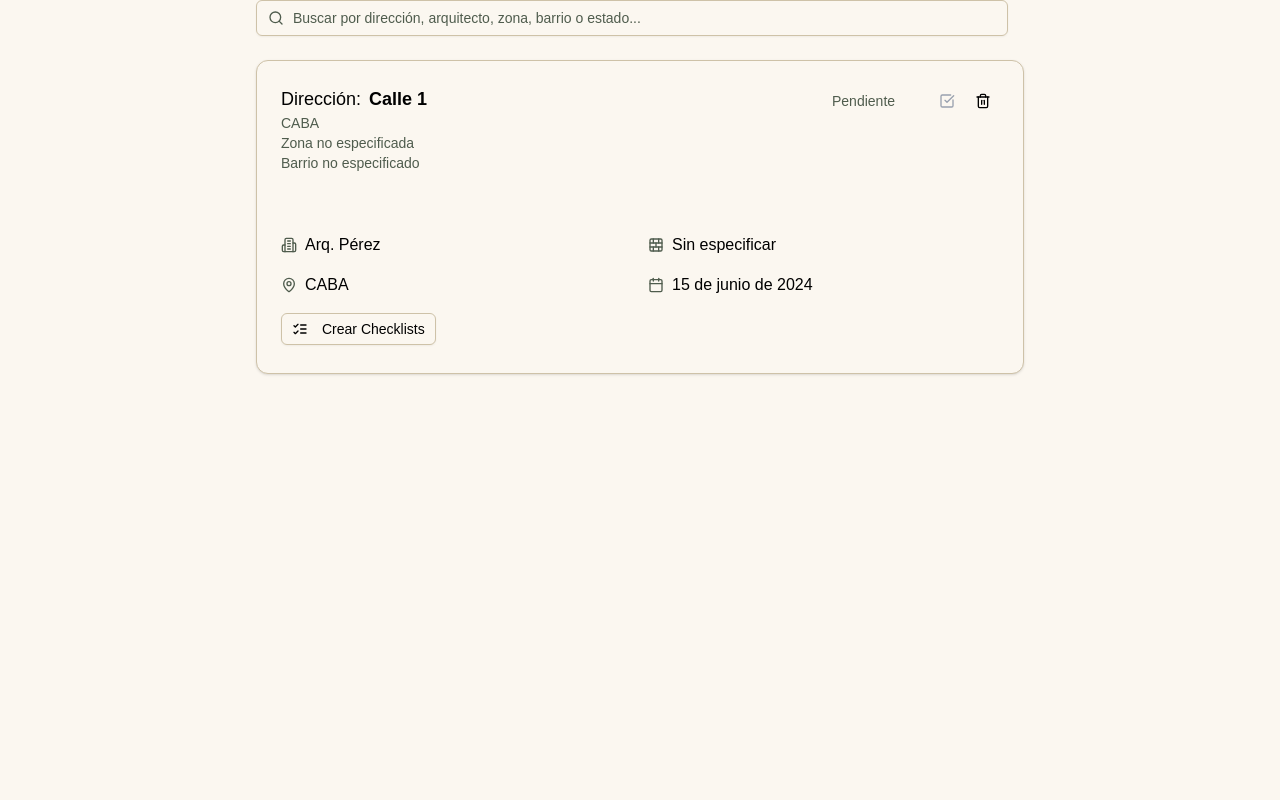
WorksList › opens delete dialog when trash icon is clicked
Click the 1st button at point(983, 101), box [967,85,999,117]
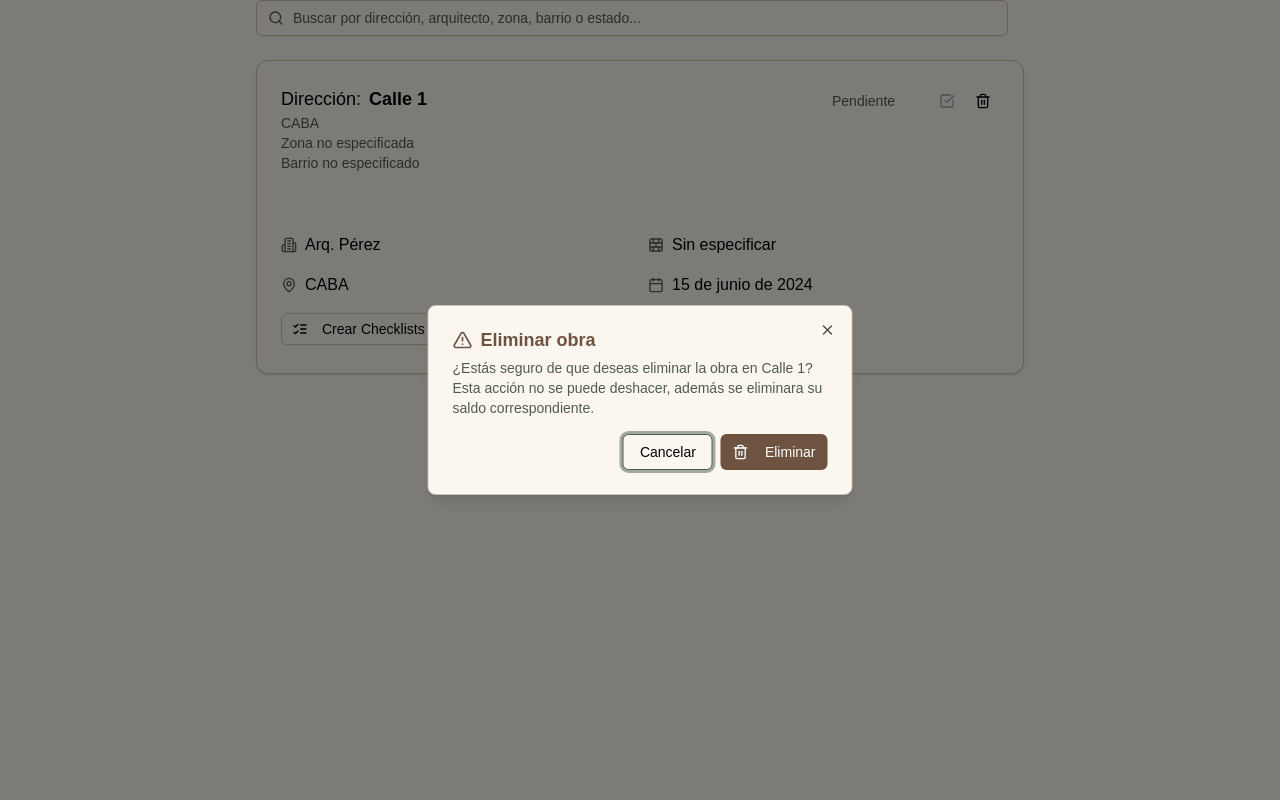
Result: the heading "Eliminar obra" is shown at [452,330,596,350]
